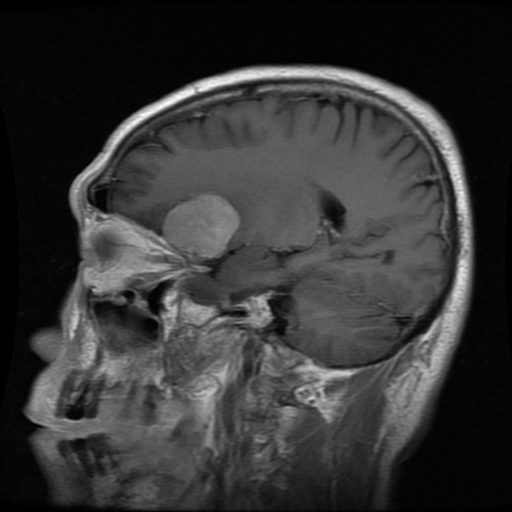meningioma: (161, 195, 241, 256)
